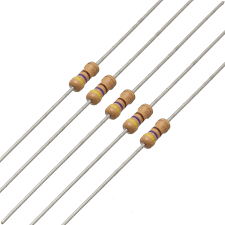resistor: (136, 113, 174, 153), (103, 85, 143, 123), (65, 59, 103, 97), (86, 72, 119, 110), (122, 104, 153, 137)
